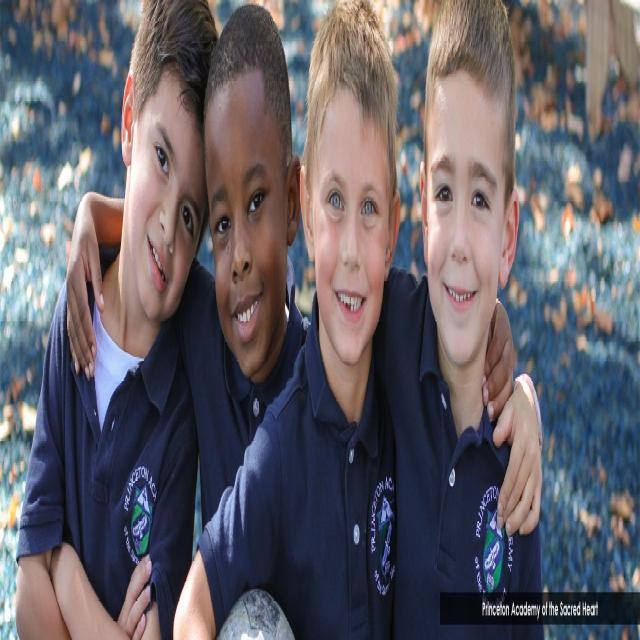body: (165, 0, 544, 638), (6, 0, 225, 638), (63, 1, 311, 538), (371, 0, 547, 640)
